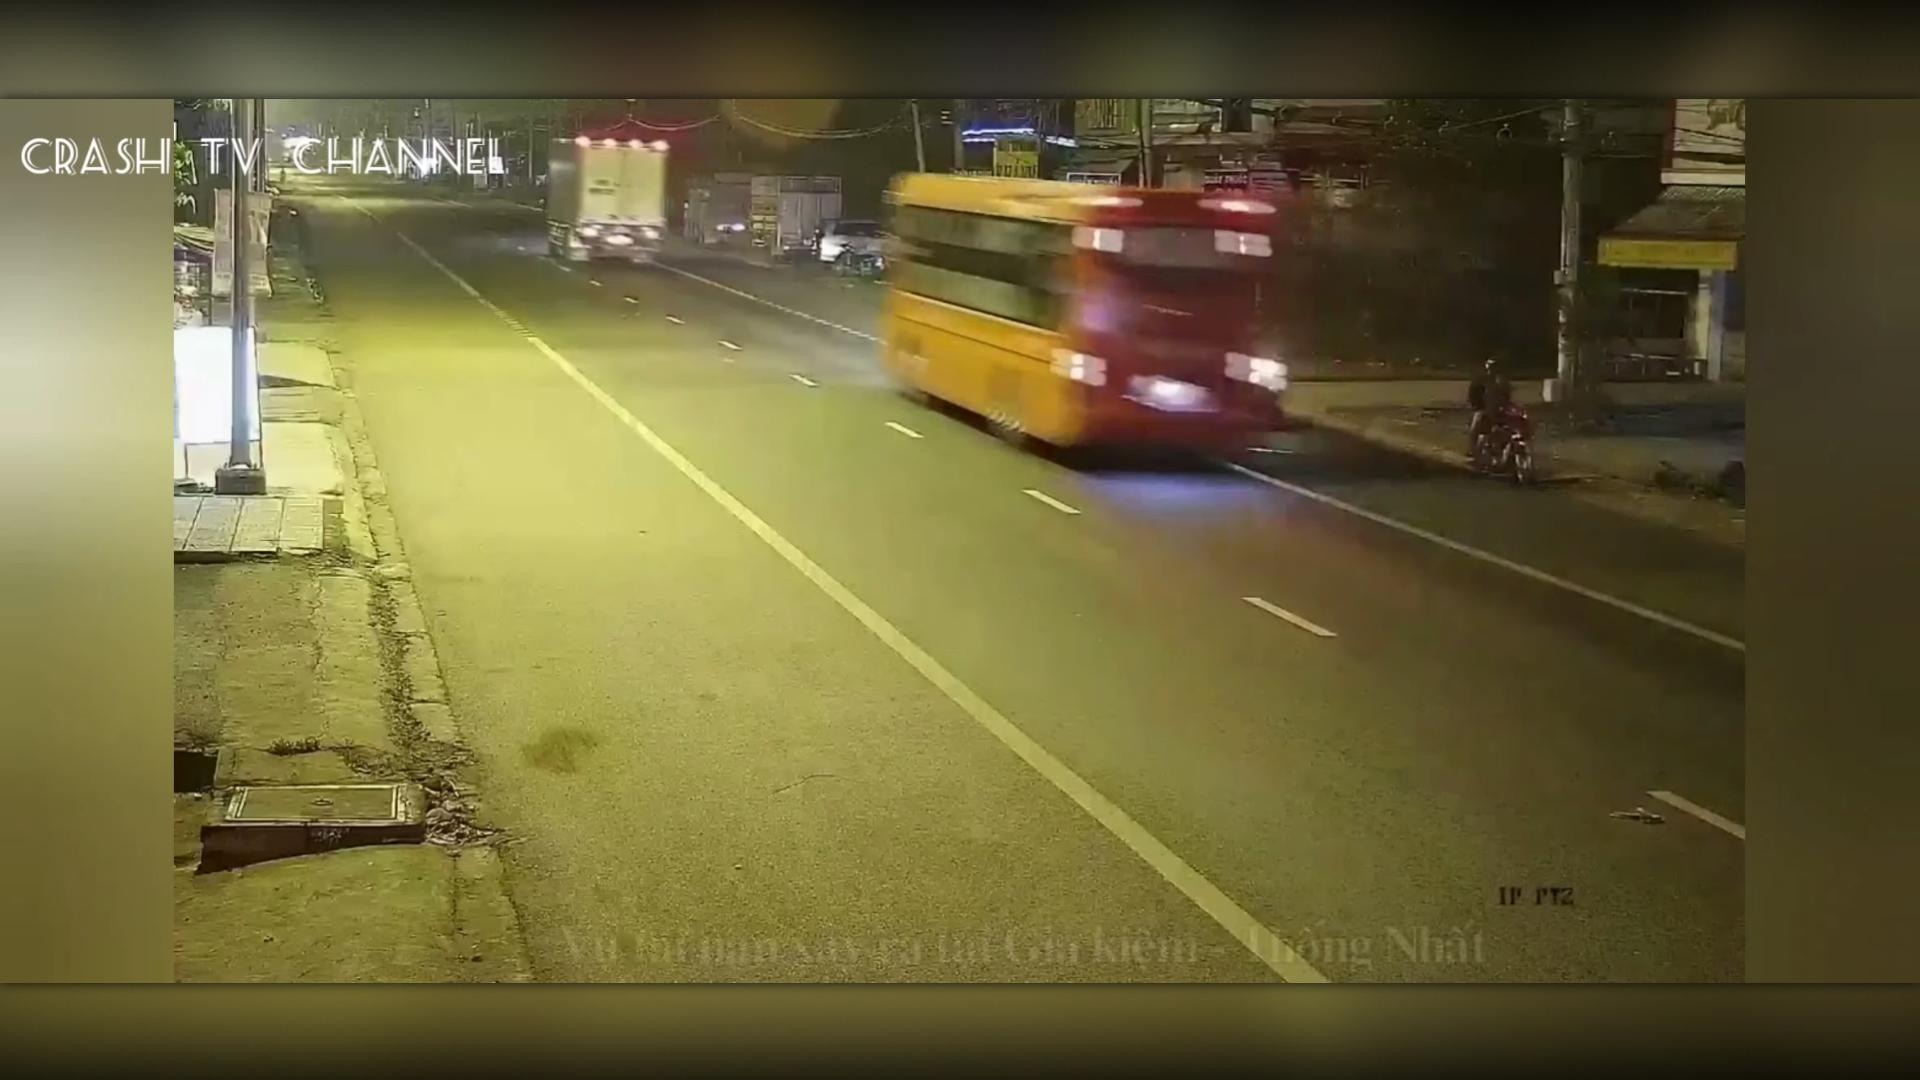bus: (865, 167, 1292, 452)
truck: (537, 125, 684, 266)
